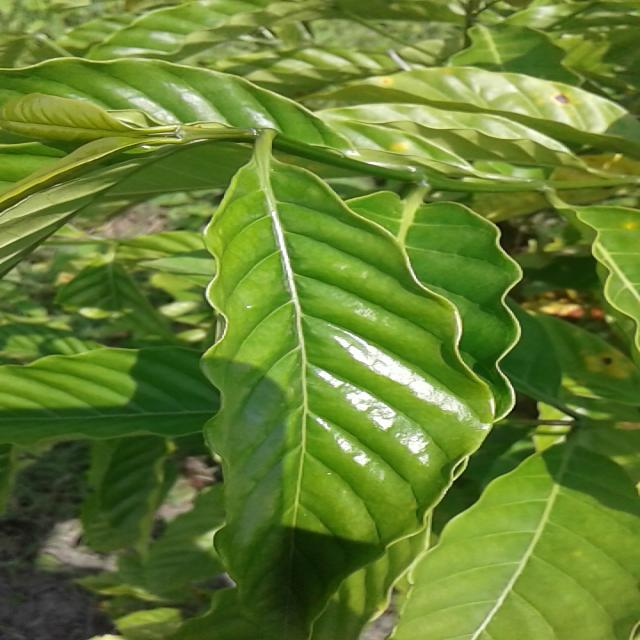Sanas: (201, 138, 502, 640)
